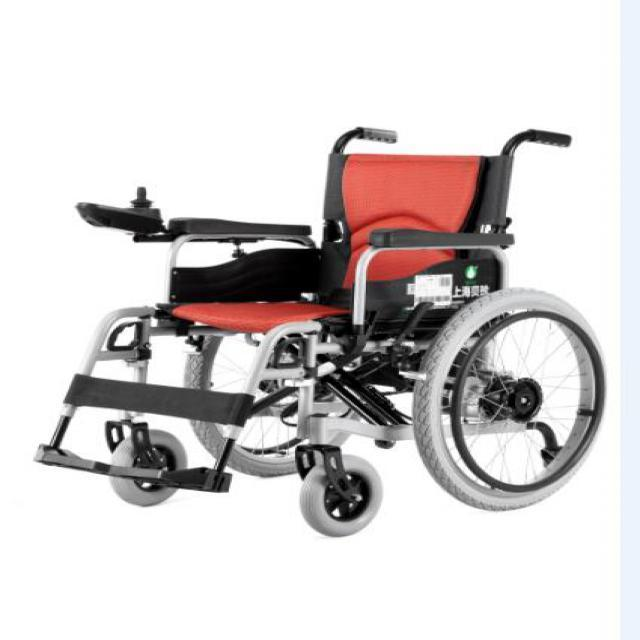wheelchair: (36, 124, 589, 532)
